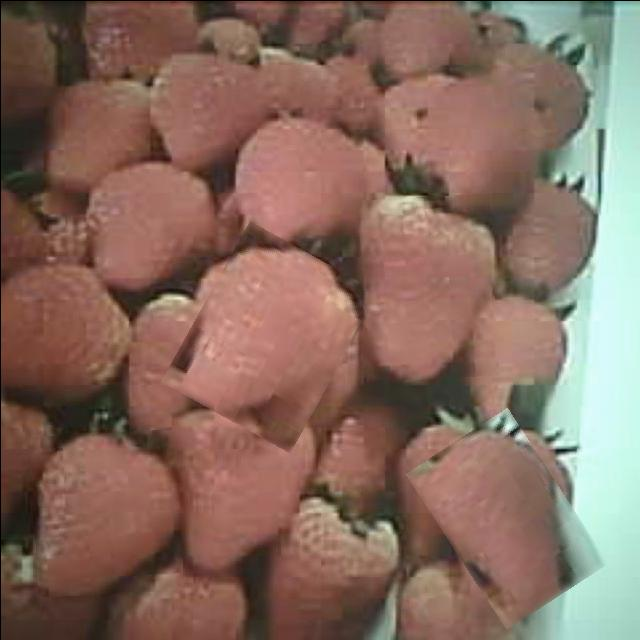strawberry: (178, 232, 360, 440), (425, 417, 587, 620), (359, 195, 495, 380), (31, 430, 180, 594)
